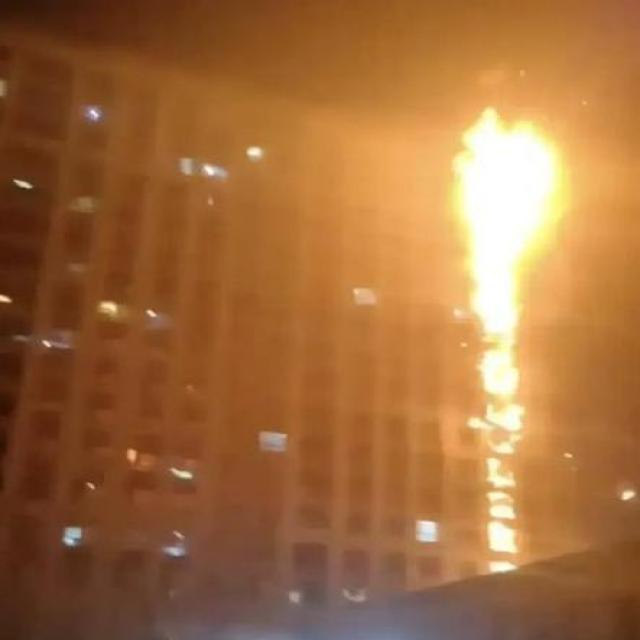Fire: (452, 106, 573, 337), (472, 342, 526, 454)
